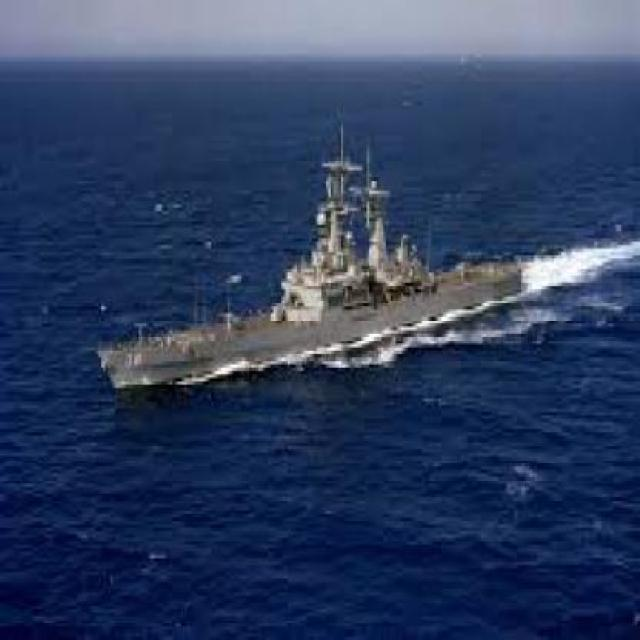warship2: (65, 120, 552, 420)
